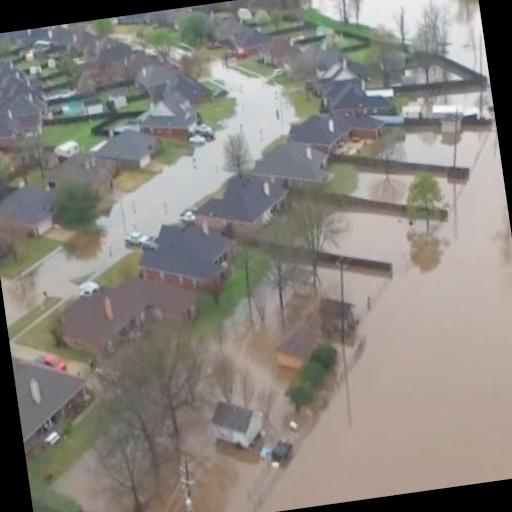flood: (184, 124, 512, 512), (1, 59, 297, 324), (434, 0, 489, 78), (55, 458, 127, 512), (360, 0, 431, 40), (356, 172, 414, 203), (311, 0, 340, 18)
house: (54, 270, 207, 364), (9, 328, 100, 472), (134, 208, 236, 310), (254, 136, 332, 197), (84, 120, 159, 182), (193, 188, 283, 238), (0, 180, 57, 249), (208, 395, 268, 453), (289, 108, 354, 158), (142, 93, 199, 144), (322, 74, 372, 116), (315, 292, 360, 338), (9, 98, 47, 140), (141, 58, 178, 100), (232, 22, 272, 56), (97, 34, 135, 68), (0, 66, 31, 103), (260, 36, 292, 70), (50, 24, 75, 46), (108, 88, 130, 110), (112, 14, 146, 28), (83, 96, 104, 114), (20, 28, 44, 42)
